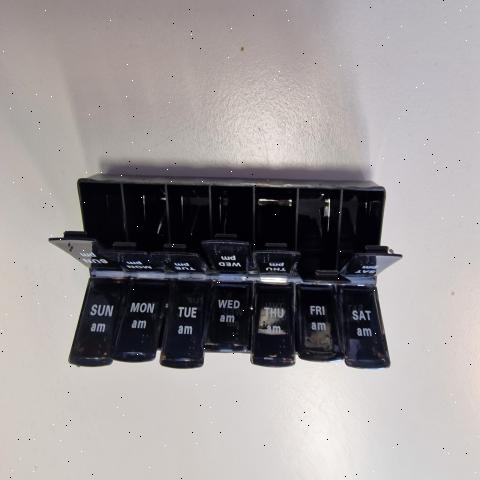Open: (294, 187, 348, 282), (339, 191, 401, 269), (50, 183, 118, 240), (156, 186, 208, 254), (110, 186, 164, 247), (200, 190, 250, 247), (252, 187, 293, 252), (336, 292, 347, 368), (154, 291, 167, 351), (293, 290, 301, 359), (250, 294, 252, 353)
